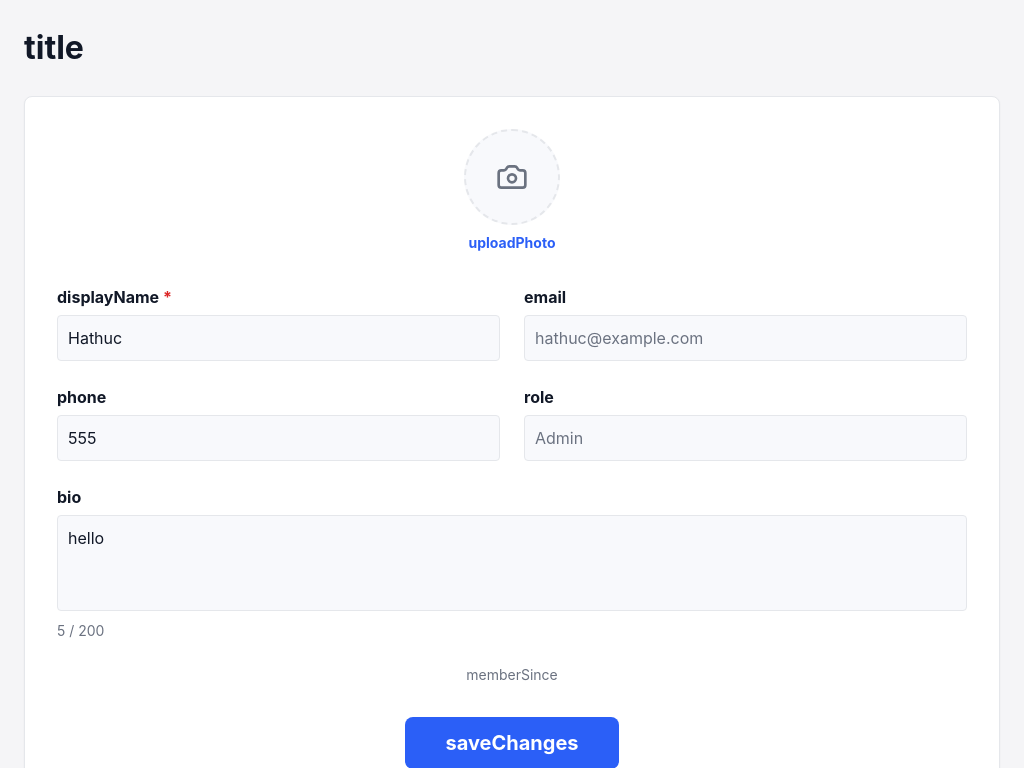
ManageAccount page › save success toast › shows a success toast and re-enables the save button after the 800 ms delay
Replace the text in the field labelled "displayName *" with "Valid" at x=278, y=338, box top-left (57, 315), bottom-right (500, 361)
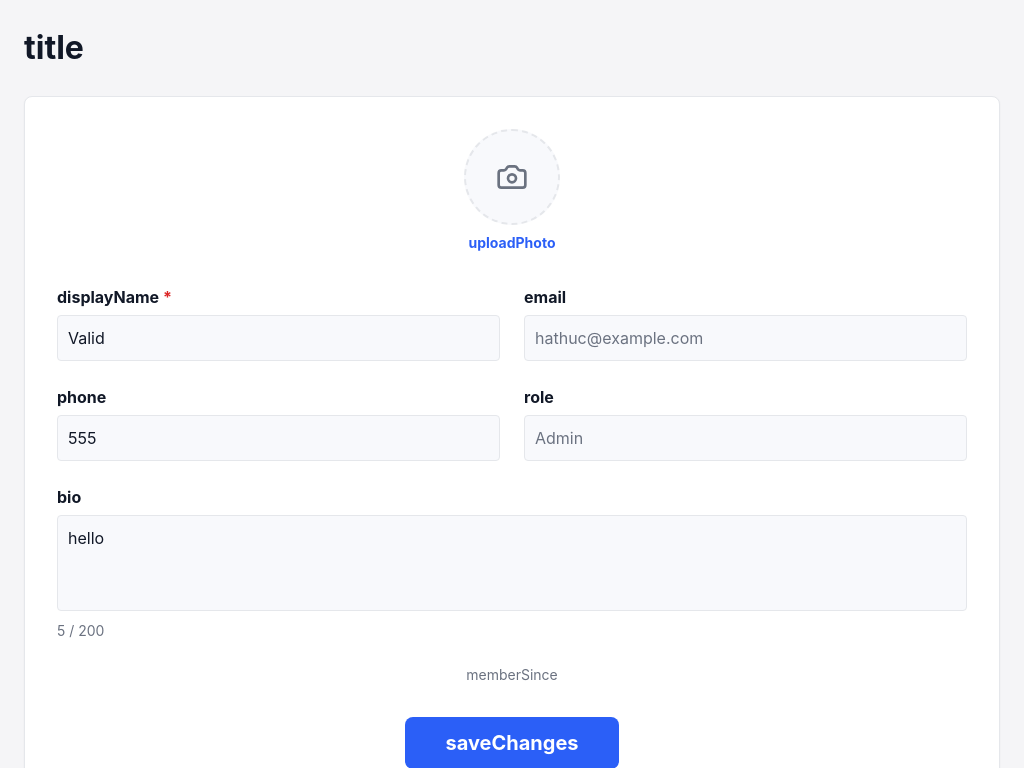
Click the button "saveChanges" at x=512, y=743, box top-left (406, 717), bottom-right (619, 767)
Wait 900 ms
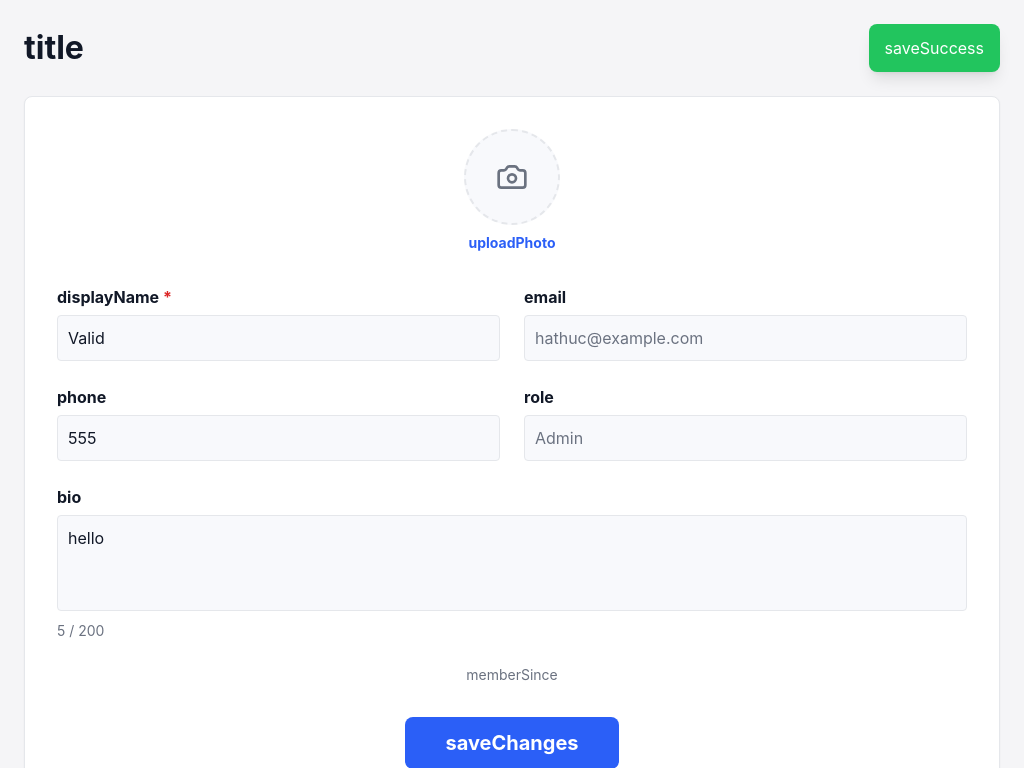
expect the text "saveSuccess" is shown: met, box top-left (869, 24), bottom-right (1000, 72)
